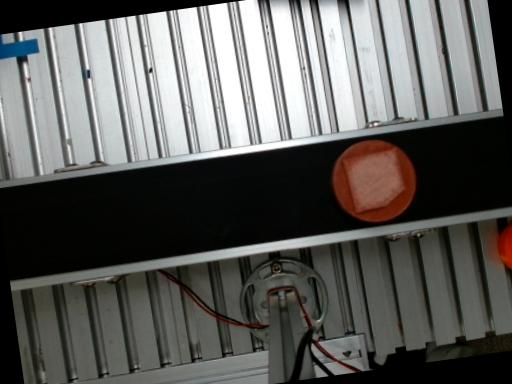Brown_Waper: (332, 139, 416, 222)
Not_Square: (341, 147, 407, 214)
